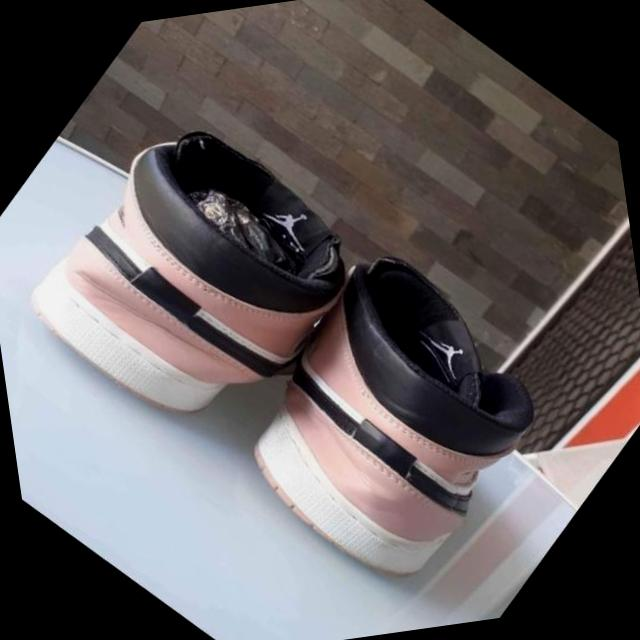nike_fake_jordan: (187, 212, 604, 630), (0, 67, 405, 486)
